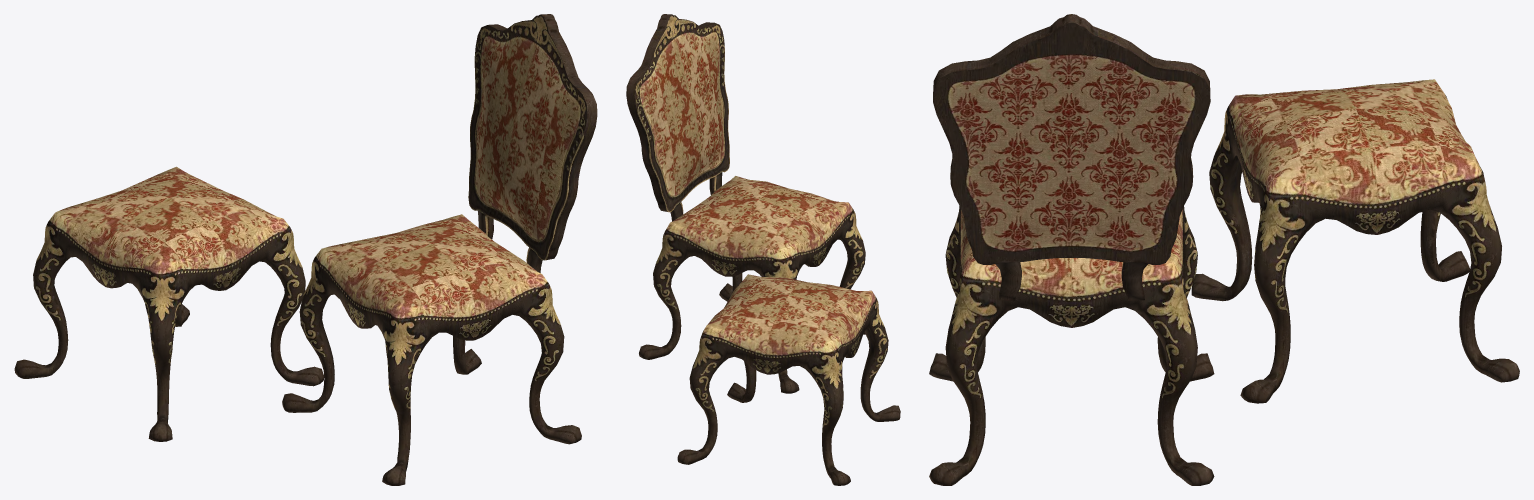
Rendered from vict_dining_chair.glb.
3 renders of one model, left to right at view 1: azimuth 30°, elevation 25°; view 2: azimuth 150°, elevation 25°; view 3: azimuth 270°, elevation 25°, orthographic. The views are drawn at different scales.
Parts seen in each view (by area): view 1: DiningxChair_DiningChair_0; view 2: DiningxChair_DiningChair_0; view 3: DiningxChair_DiningChair_0.
Boxes of the visible parts, box(x1,y1,x2,y2) form: DiningxChair_DiningChair_0: box(14, 14, 597, 485); DiningxChair_DiningChair_0: box(626, 14, 900, 485); DiningxChair_DiningChair_0: box(929, 14, 1519, 485).
Bounding box in the file's own units: 1.05 × 1 × 1.11.
Materials: 1 (1 with a texture image).
